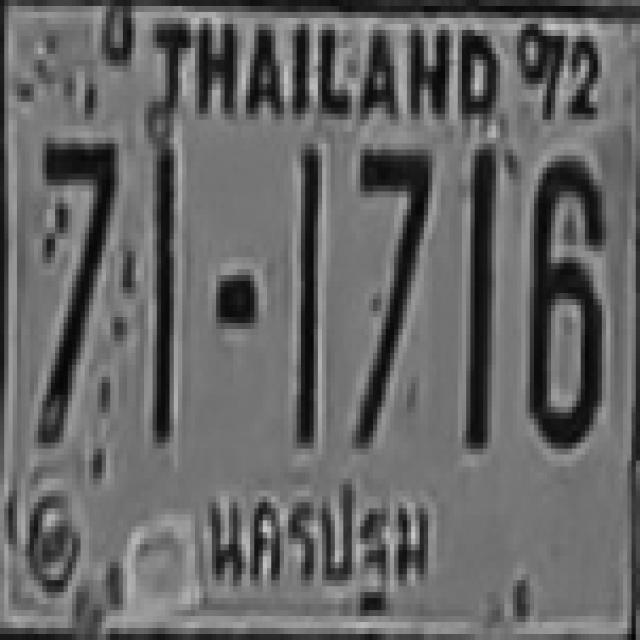1: (464, 146, 494, 434), (466, 146, 492, 410), (297, 146, 318, 410)
6: (525, 152, 602, 446)
7: (38, 138, 115, 436), (354, 144, 430, 442)
NakhonPathom: (196, 471, 438, 628)
